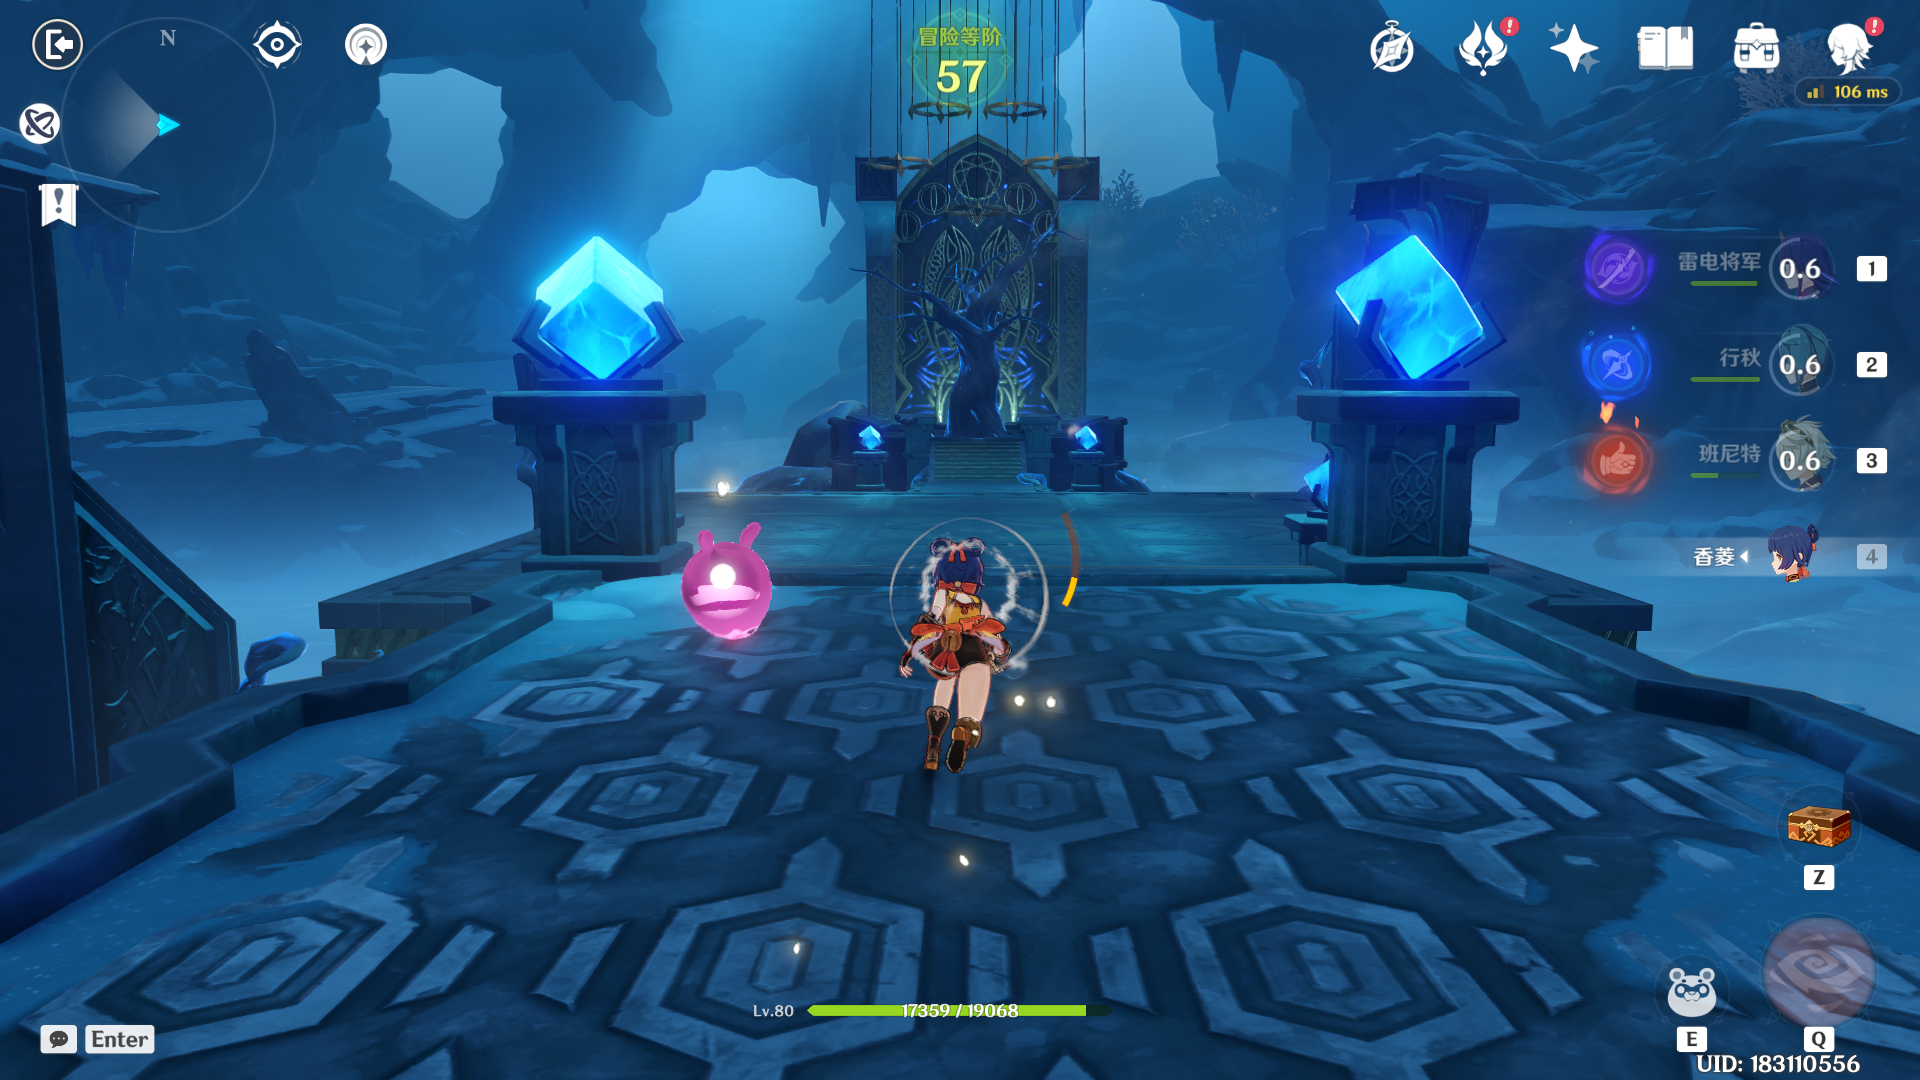character: (868, 520, 1088, 781)
